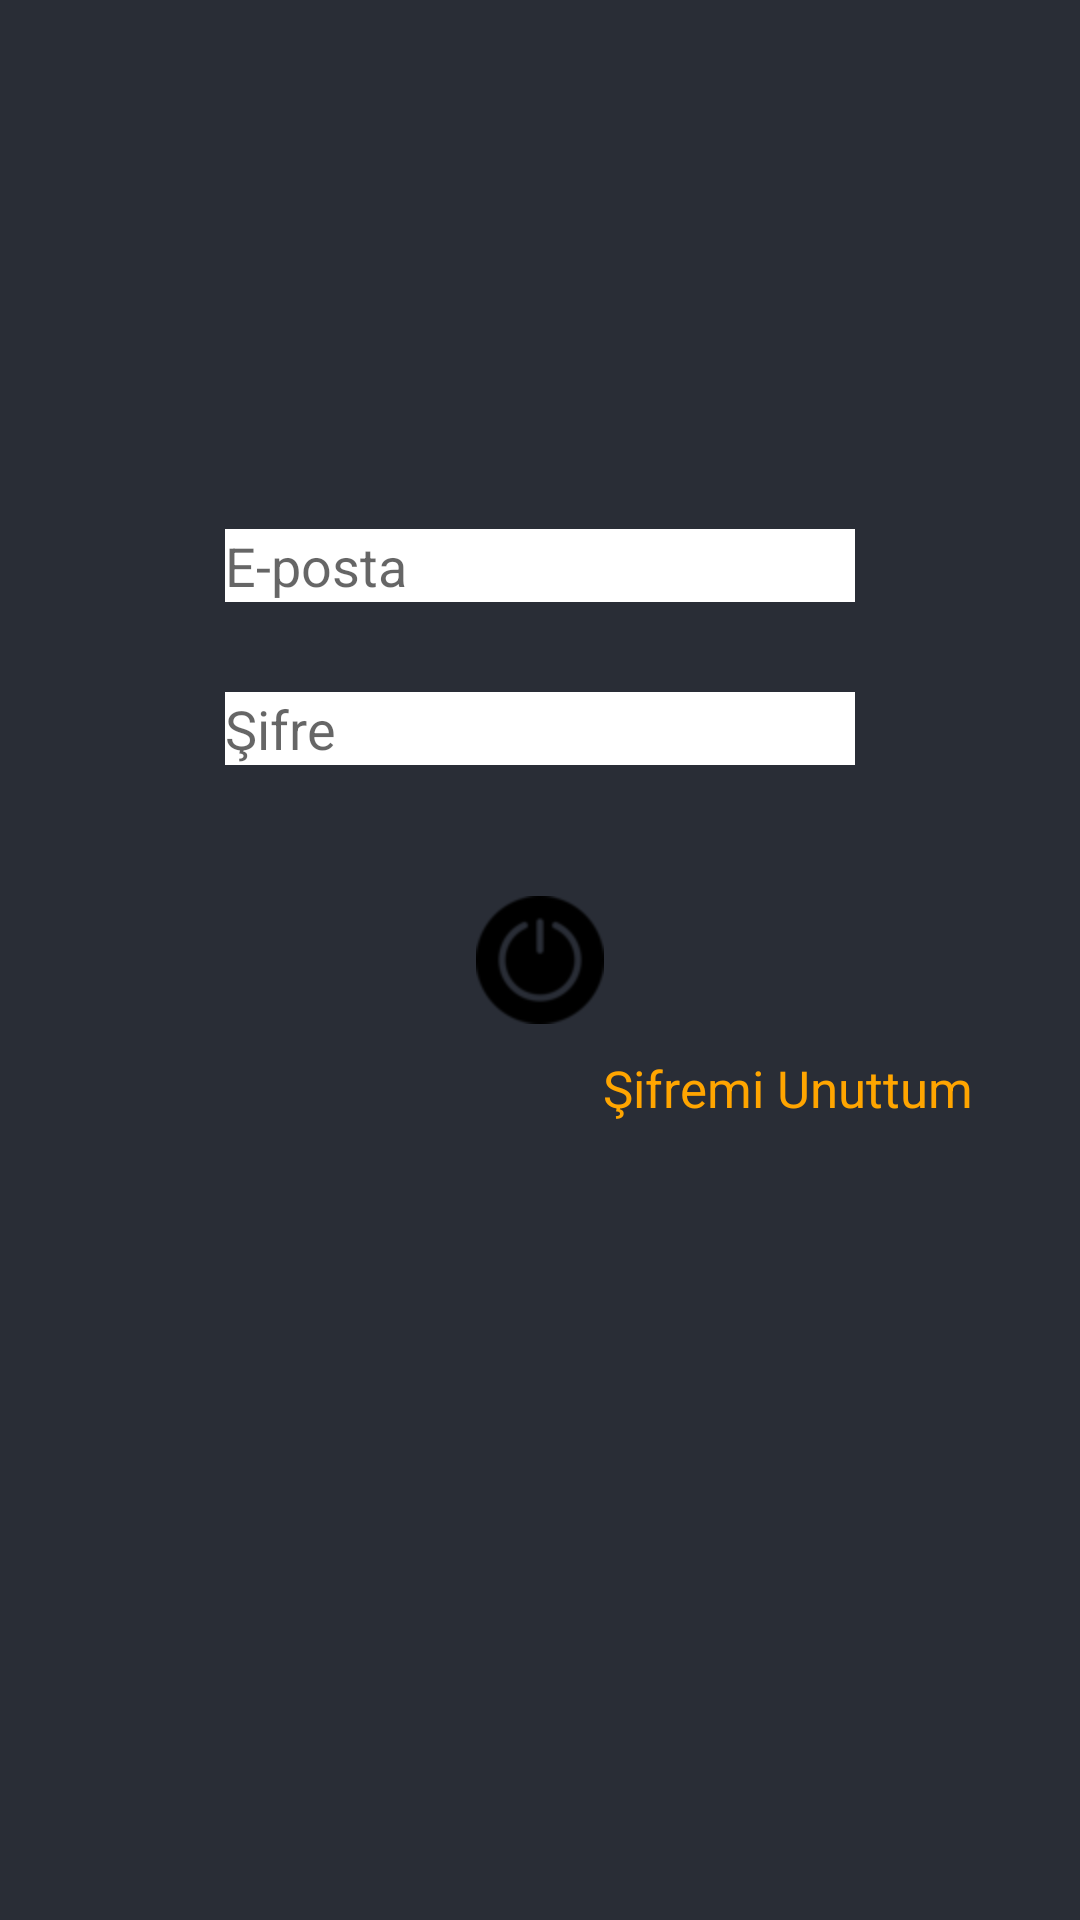

Locate icon controls on the screen. Image size 1080px×1920px, boxes as bbox=[x1, y1, x2, y2].
power: bbox=[476, 896, 604, 1024]
